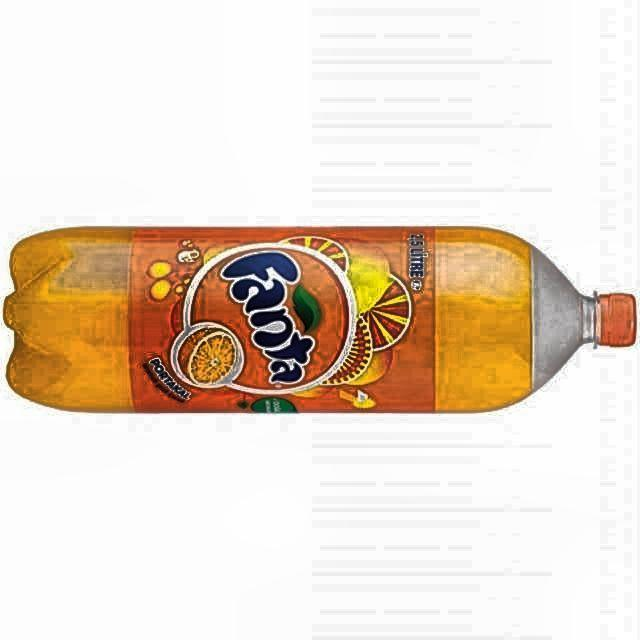plastic: (4, 228, 636, 412)
